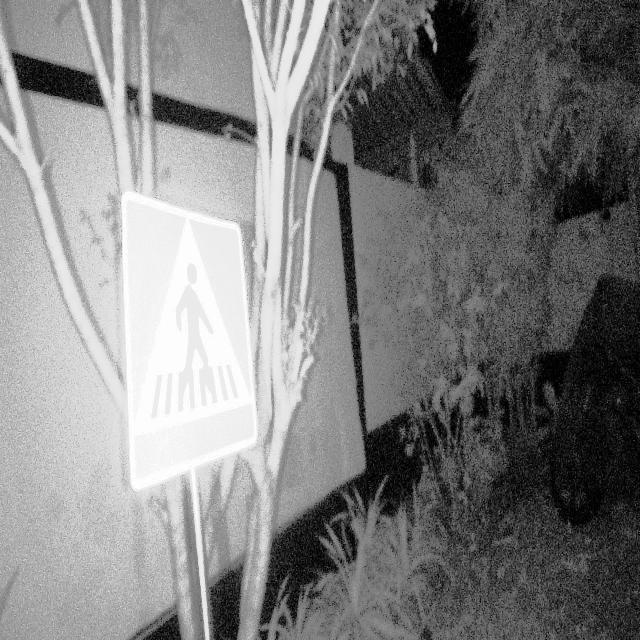Sign: (121, 187, 259, 495)
